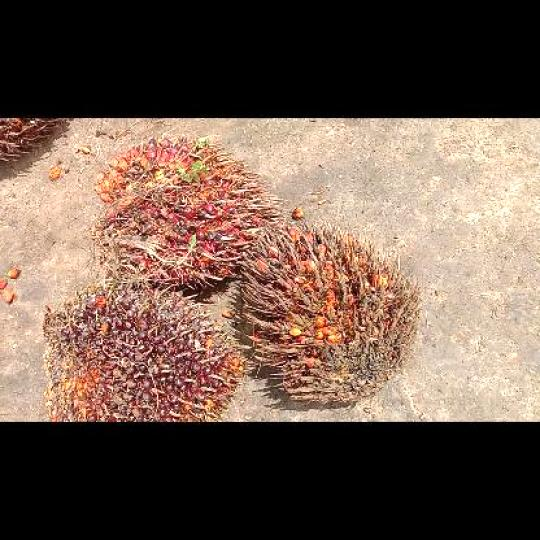kurang masak: (42, 284, 241, 420)
masak: (96, 132, 280, 289)
terlalu masak: (231, 225, 422, 406)
